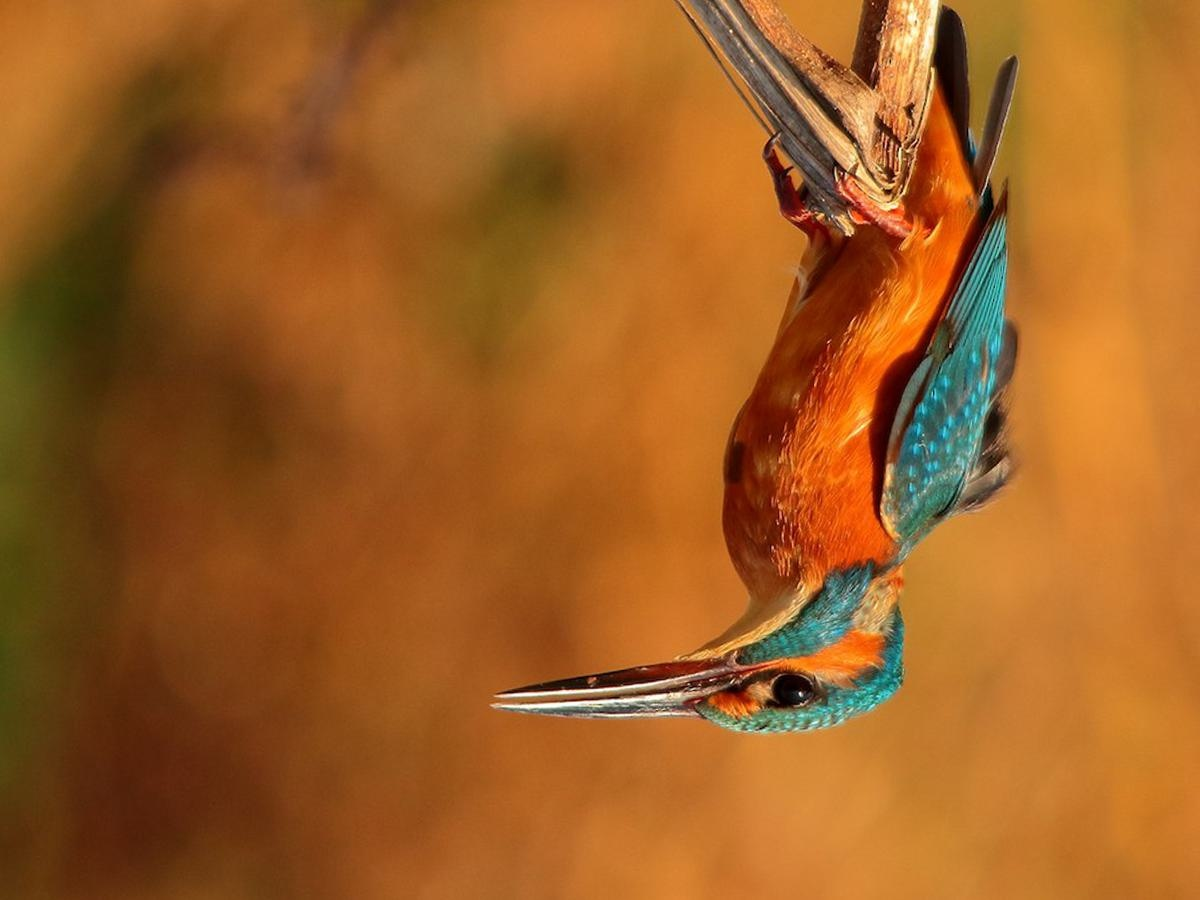kingfisher: (483, 34, 1024, 792)
